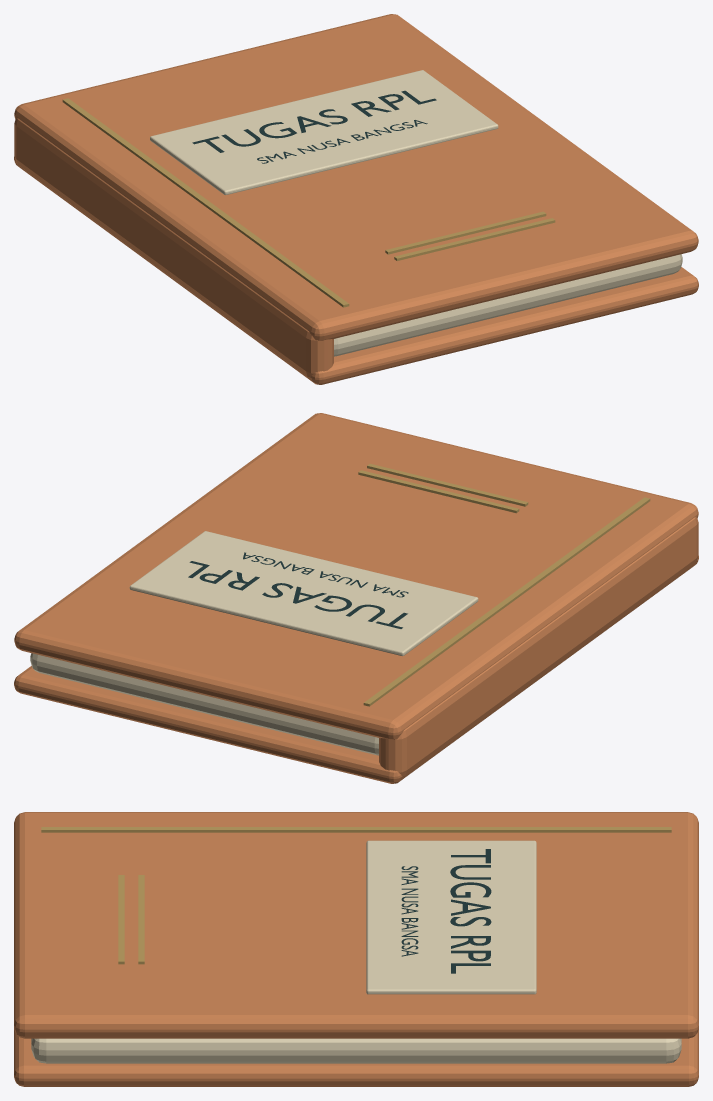
Rendered from assignment_folder.glb.
3 views of the same model, one above another, from view 1: azimuth 30°, elevation 25°; view 2: azimuth 150°, elevation 25°; view 3: azimuth 270°, elevation 25° (orthographic). The views are drawn at different scales.
Visible parts, largest first — view 1: assignment_folder; view 2: assignment_folder; view 3: assignment_folder.
Boxes of the visible parts, <box> form: assignment_folder: <box>14,14,698,384</box>; assignment_folder: <box>14,413,698,783</box>; assignment_folder: <box>14,812,698,1086</box>.
Size of the model in its own units: 0.235 by 0.0403 by 0.32.
